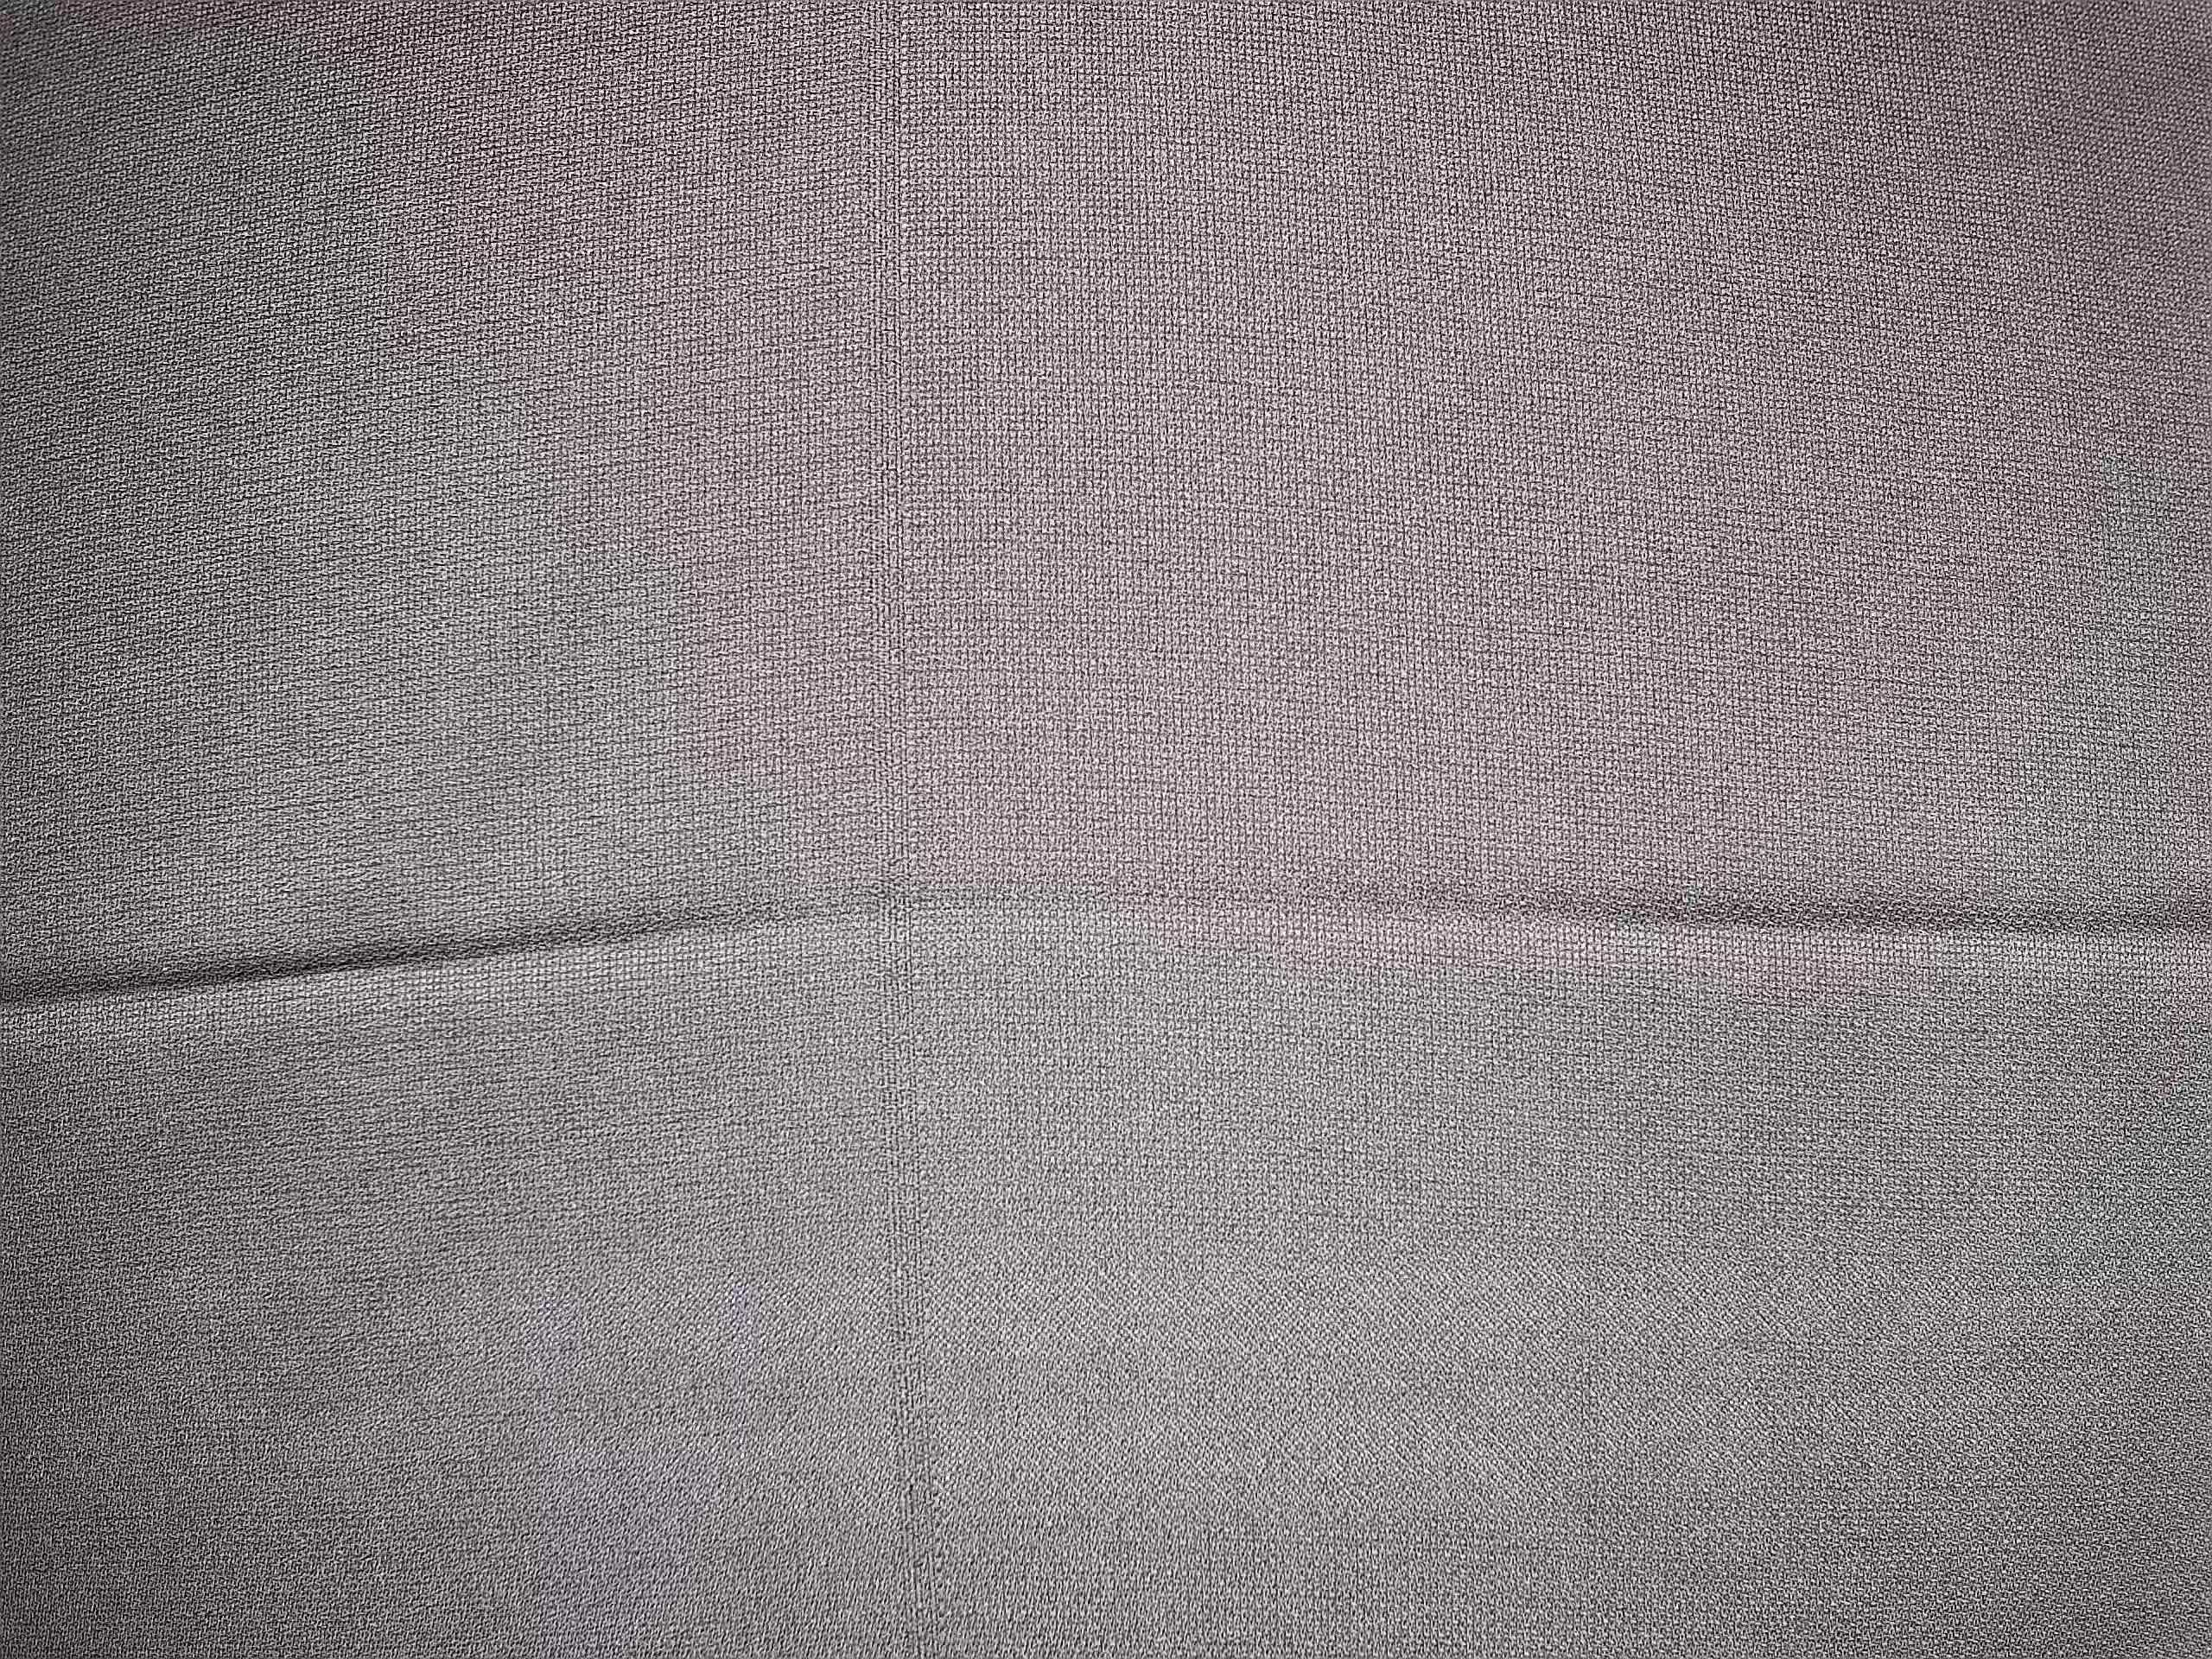lacking-warp: (848, 0, 961, 1643)
